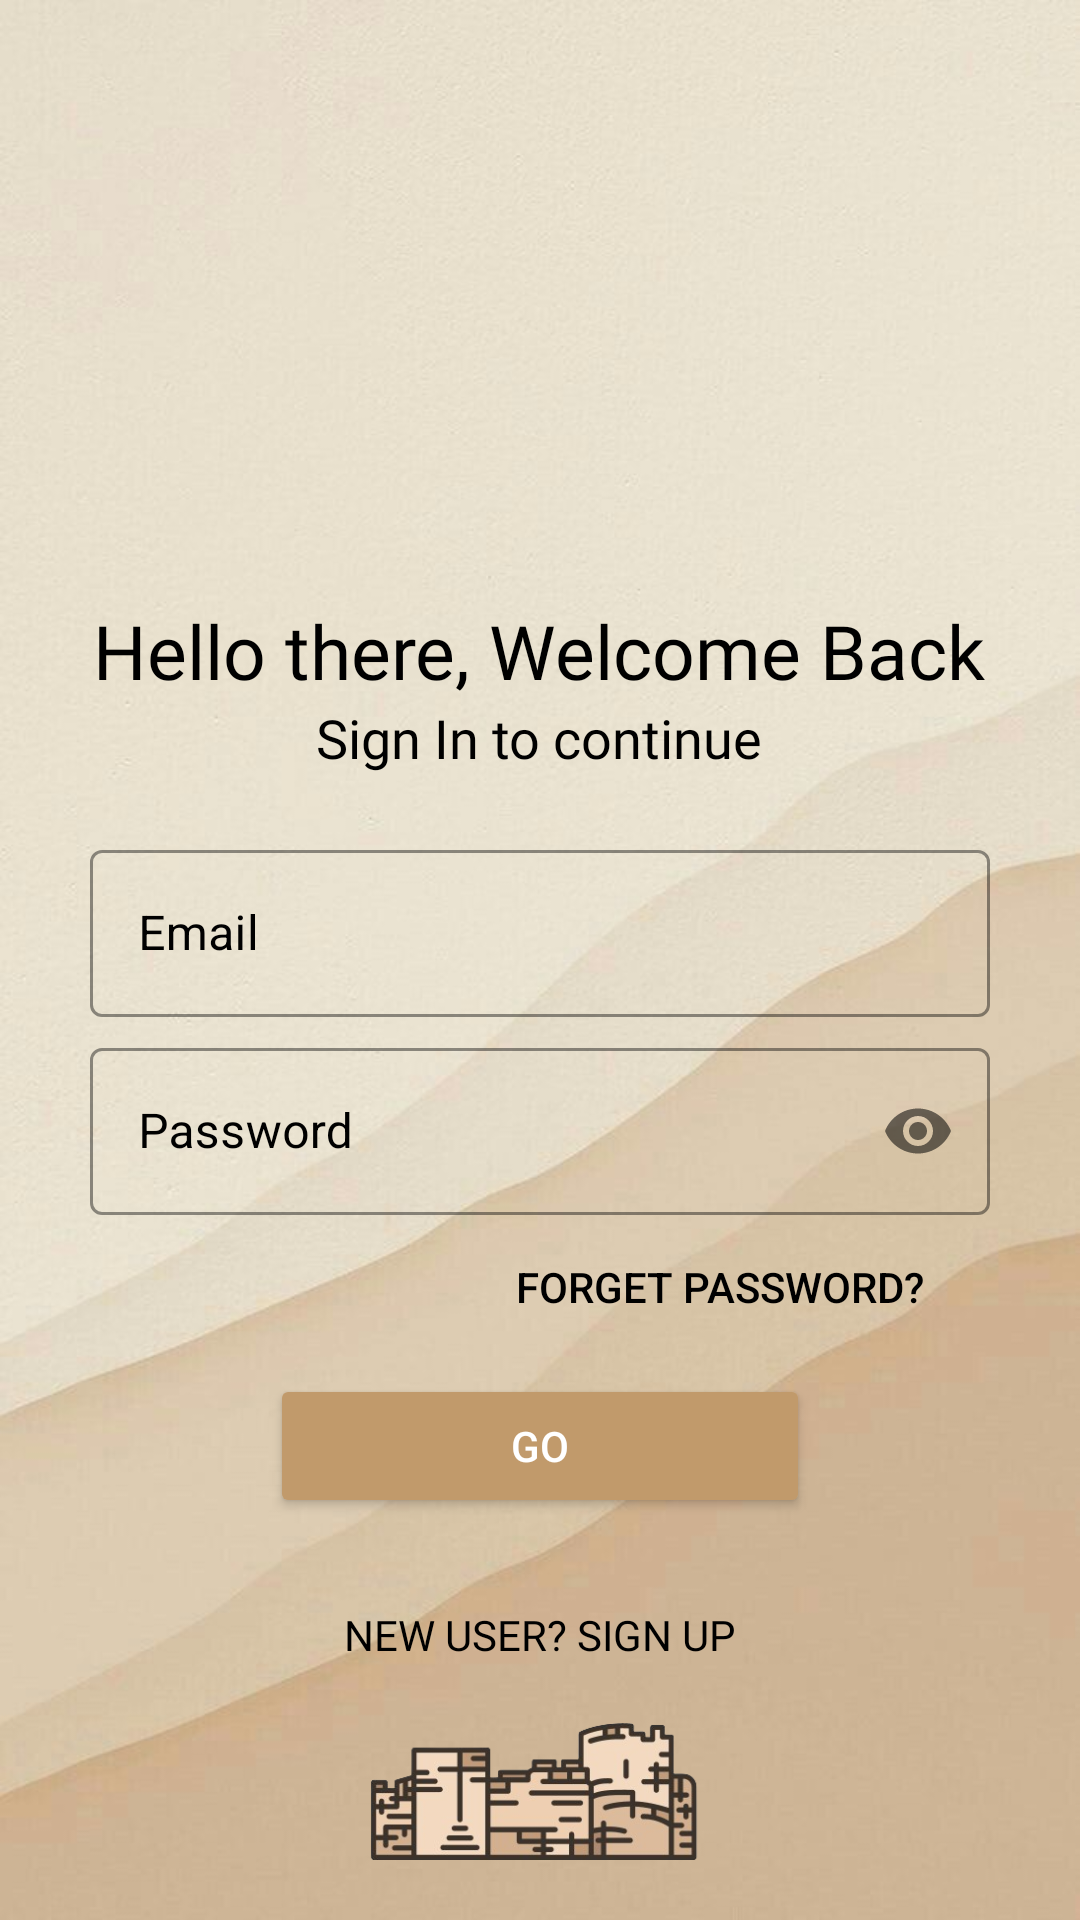

Icons on this 1080px x 1920px Android screen, each with the point to tap as [x,y]:
fort: [534,1791]
